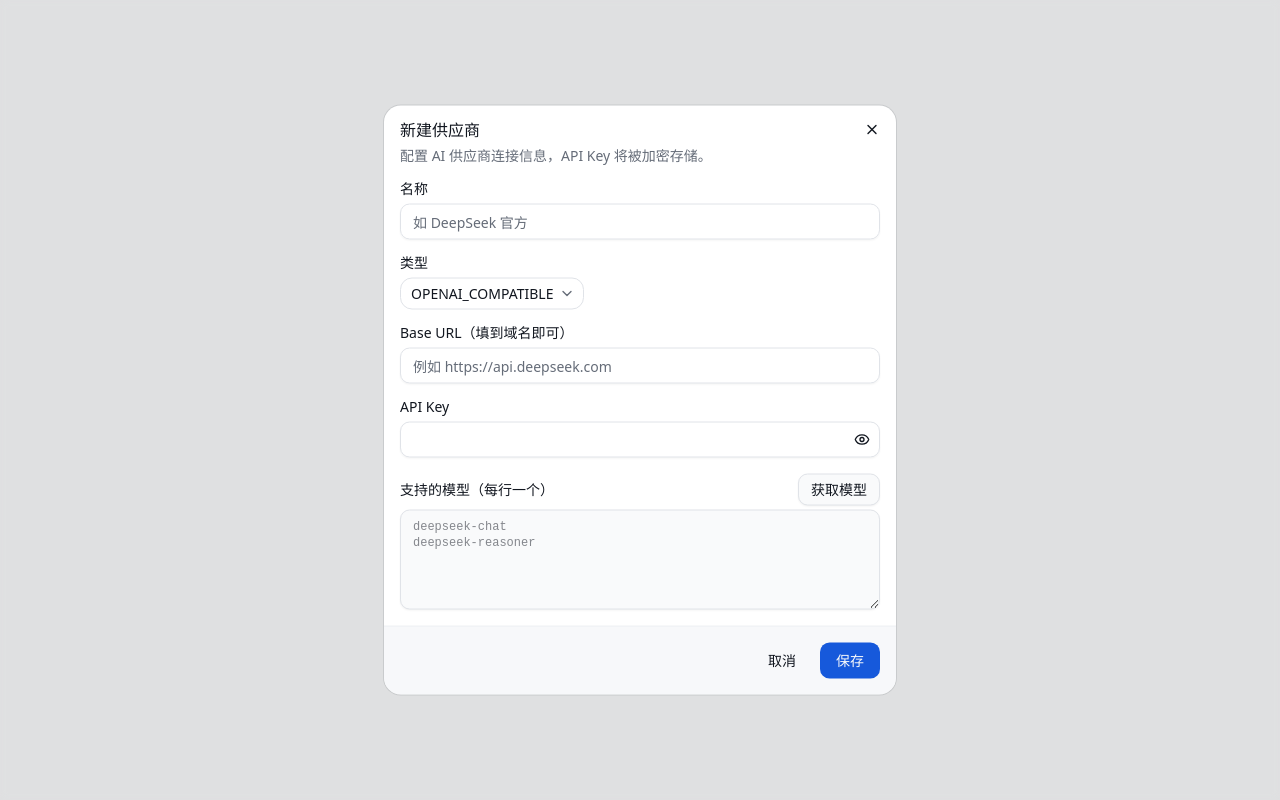
Scenario: ProviderFormDialog › 缺模型保存报错，不发请求
Type "DS" into the field labelled "名称" at (640, 222), box x1=400 y1=204 x2=880 y2=240
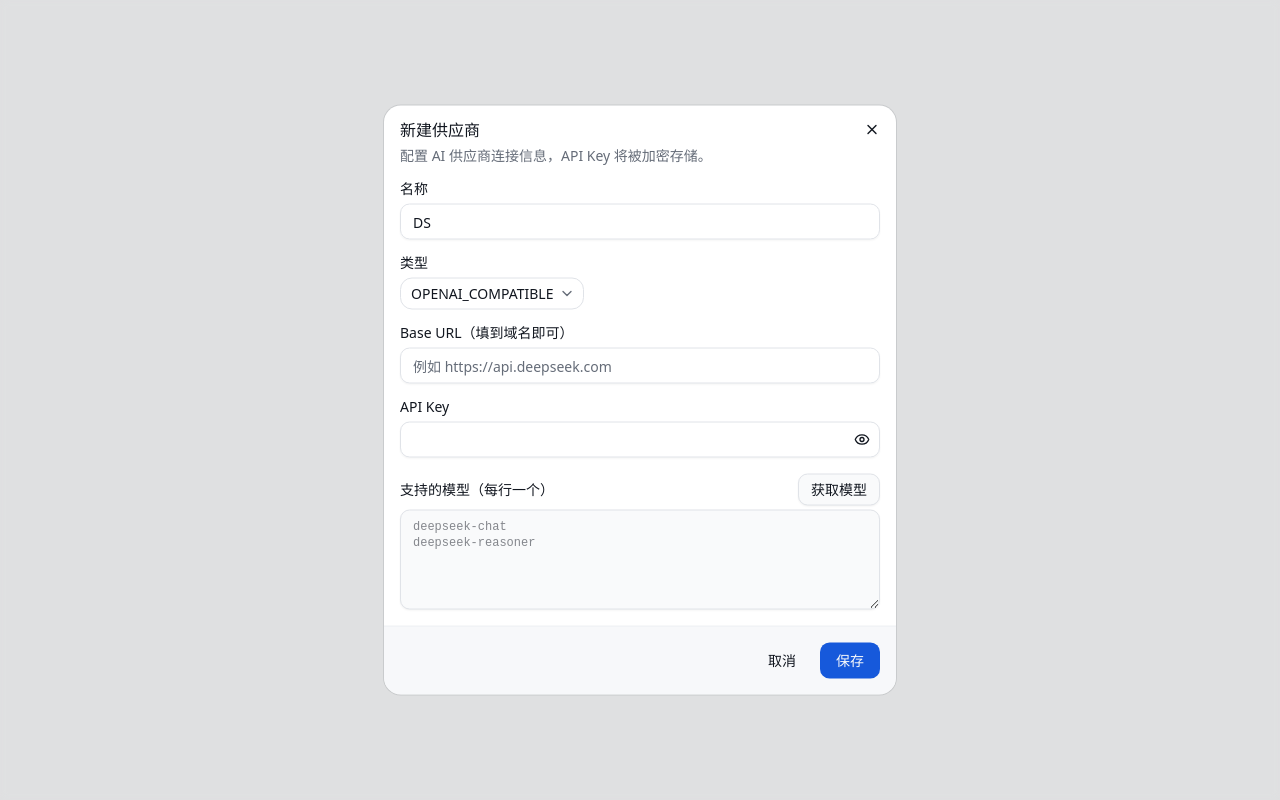
Type "https://x" into the field labelled "Base URL（填到域名即可）" at (640, 366), box x1=400 y1=348 x2=880 y2=384
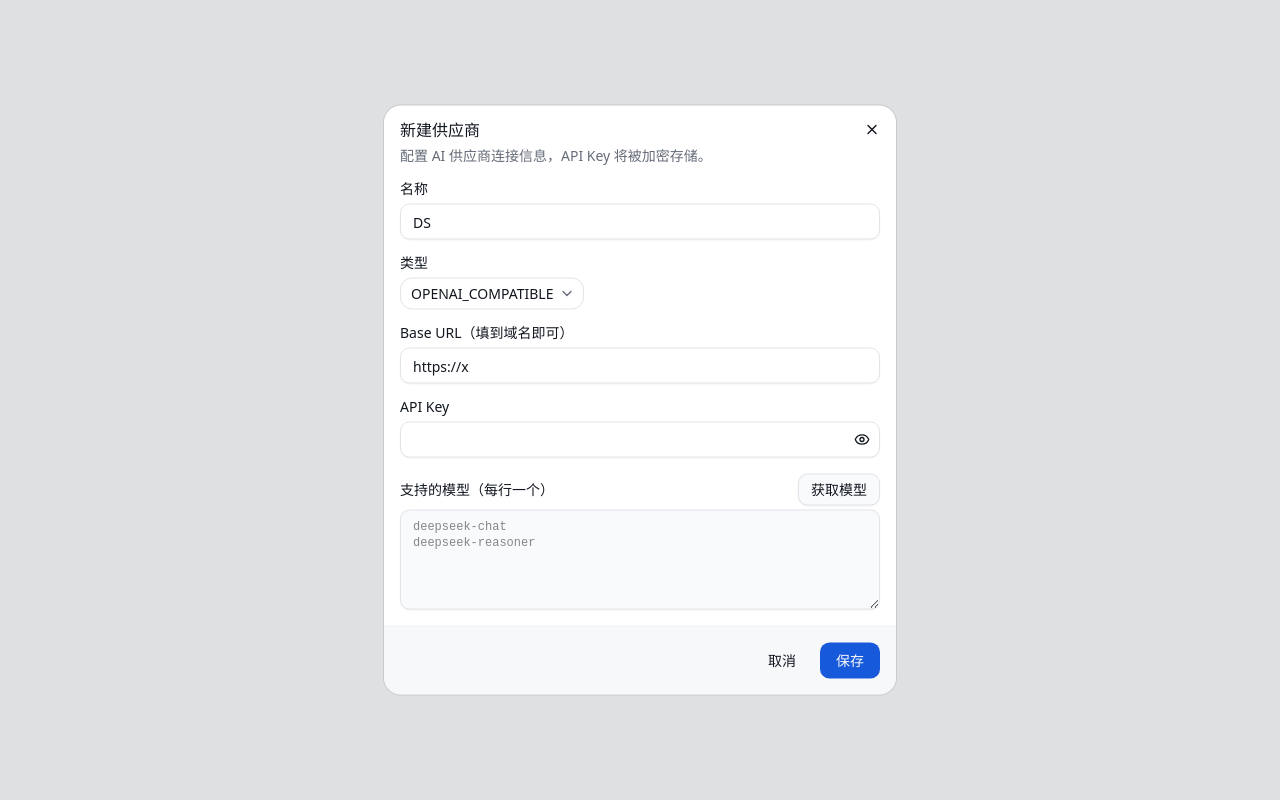
Click the button with test id "save-provider" at (850, 660), box x1=820 y1=642 x2=880 y2=678
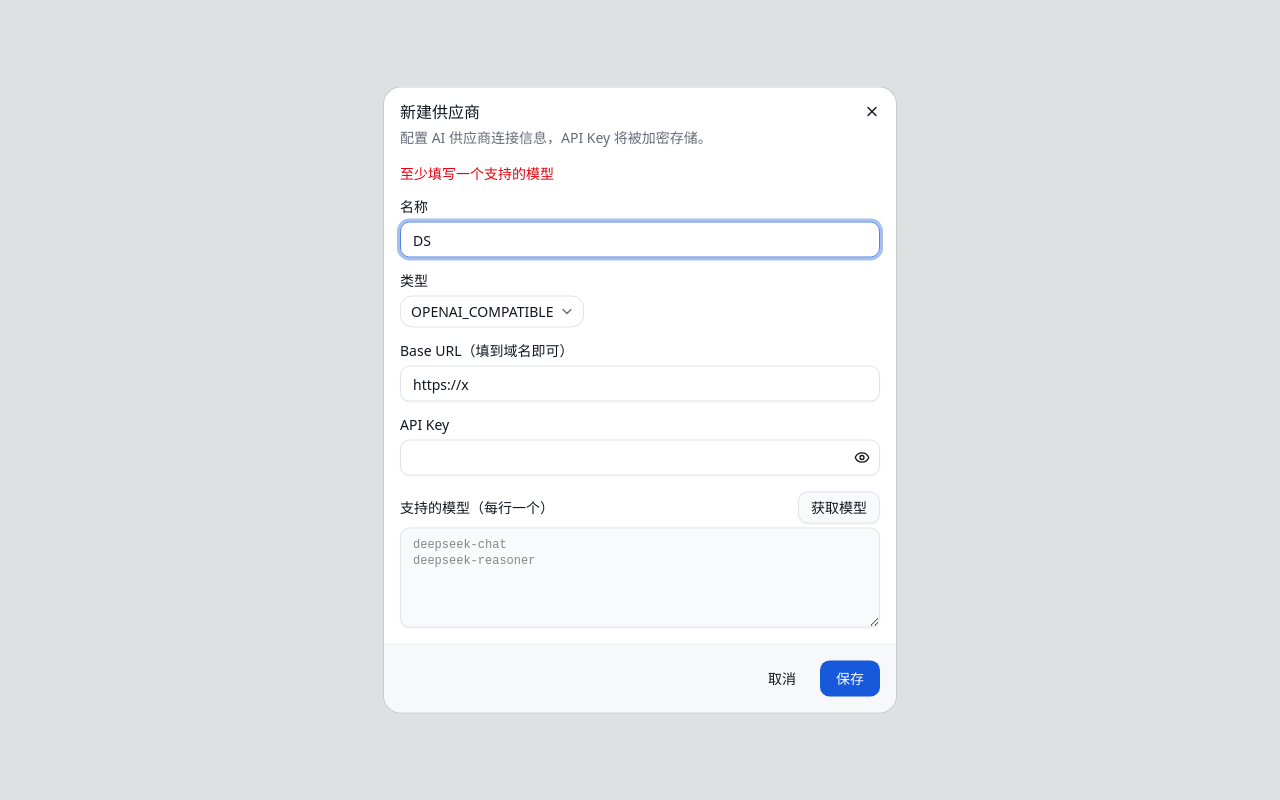
Check: the message reads "至少填写一个支持的模型", box x1=400 y1=164 x2=554 y2=182
